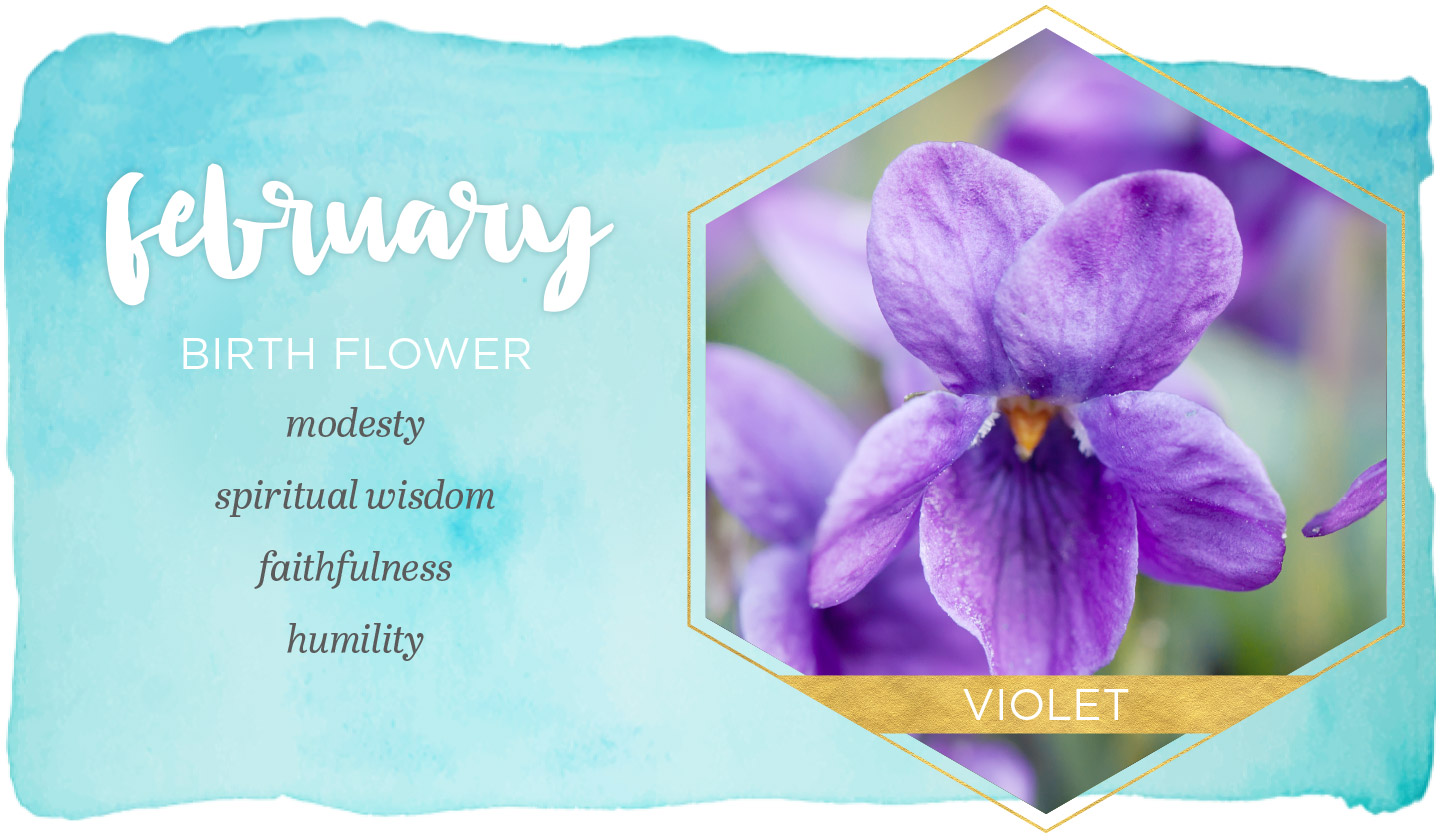violet: (810, 137, 1310, 673)
